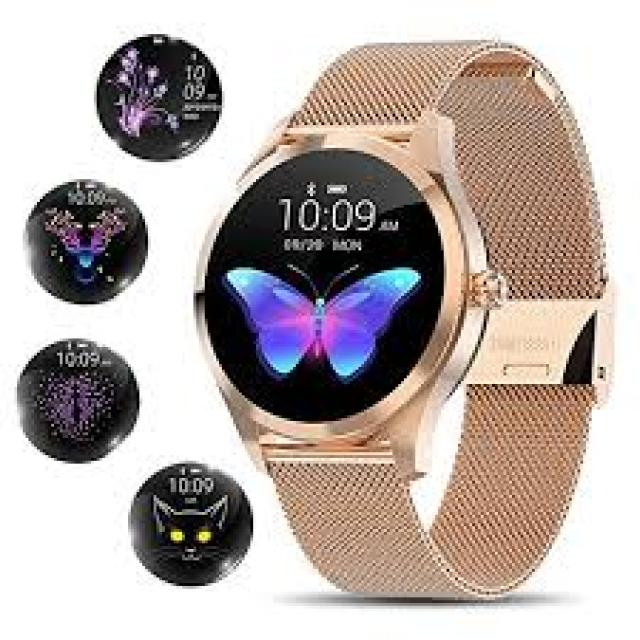objects: (196, 38, 606, 599)
